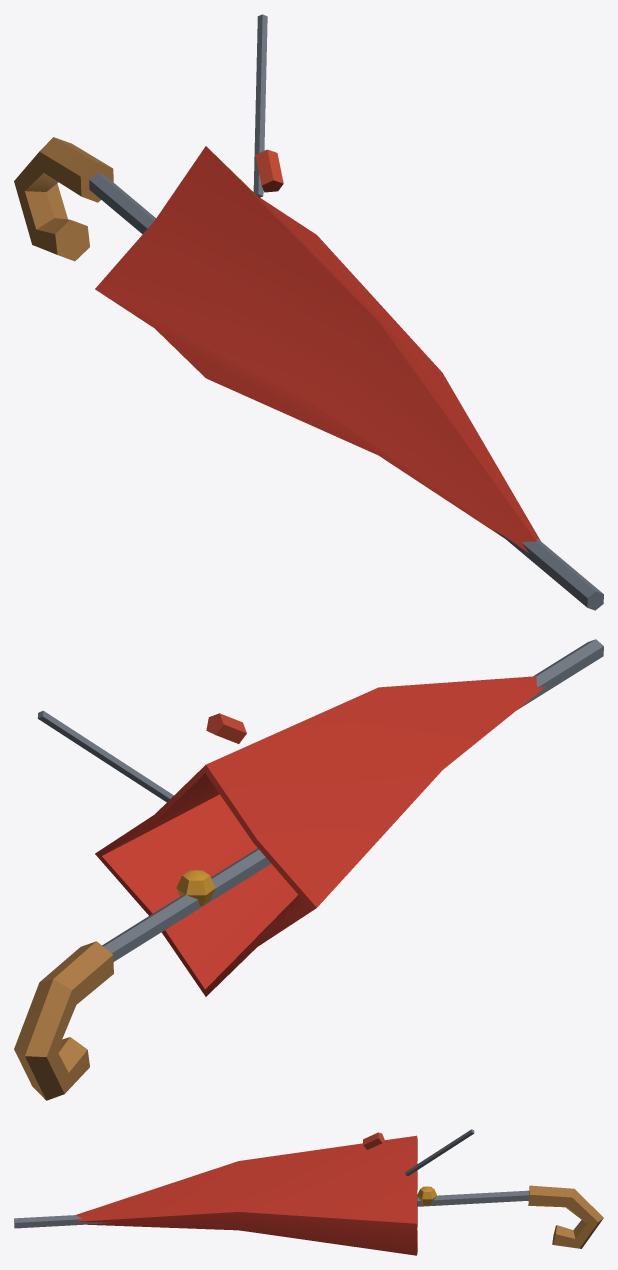
Rendered from Junk_Umbrella.fbx.
The picture shows the model from 3 angles, top to bottom: view 1: azimuth 30°, elevation 25°; view 2: azimuth 150°, elevation 25°; view 3: azimuth 270°, elevation 25°; orthographic projection. The views are drawn at different scales.
Parts seen in each view (by area): view 1: Item; view 2: Item; view 3: Item.
Part boxes in pixels (box(x1,y1,x2,y2)): Item: box(14, 14, 603, 610); Item: box(14, 639, 603, 1100); Item: box(14, 1129, 603, 1255).
Size of the model in its own units: 0.2643 by 0.3338 by 1.16.
